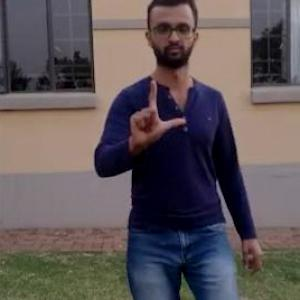land_hand: (122, 74, 195, 159)
